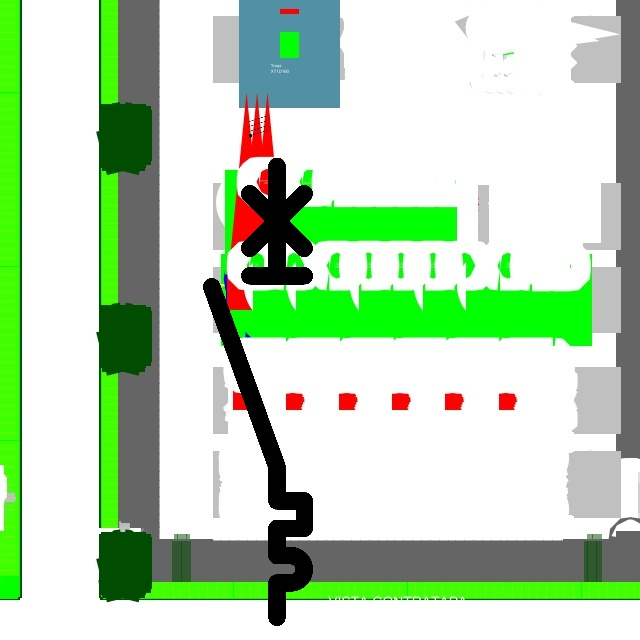interruptor_termomagnetico: (200, 154, 316, 629)
